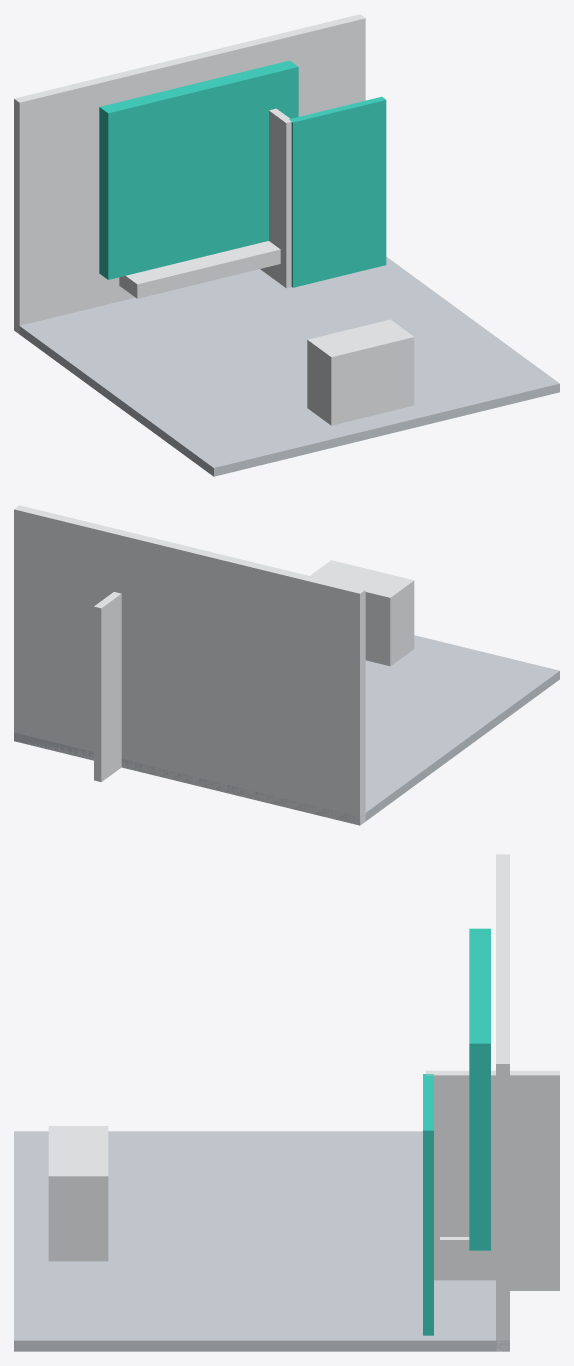
3 views of the same model, one above another, from view 1: azimuth 30°, elevation 25°; view 2: azimuth 150°, elevation 25°; view 3: azimuth 270°, elevation 25° (orthographic). The views are drawn at different scales.
Visible parts, largest first — view 1: Exhibition Booth Concept; view 2: Exhibition Booth Concept; view 3: Exhibition Booth Concept.
Part boxes in pixels (left/top/right/bottom): Exhibition Booth Concept: left=14, top=14, right=559, bottom=476; Exhibition Booth Concept: left=14, top=505, right=559, bottom=825; Exhibition Booth Concept: left=14, top=854, right=559, bottom=1351.
Size of the model in its own units: 5 by 3.2 by 5.51.
